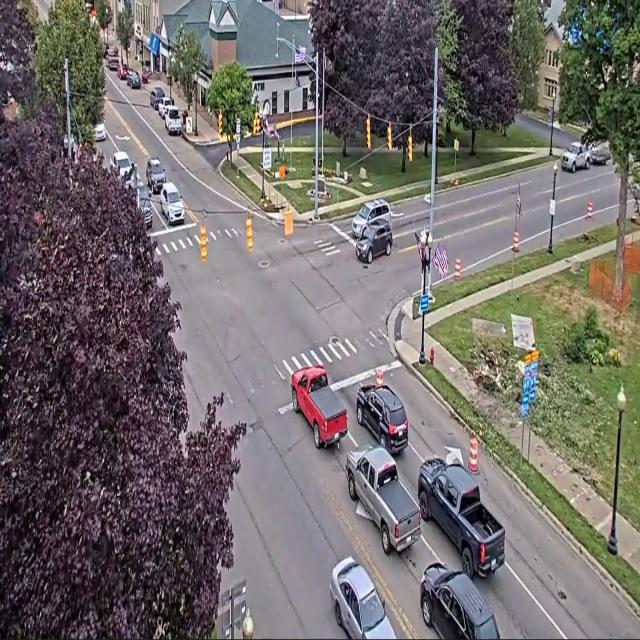car: (420, 563, 499, 639), (330, 558, 395, 639), (356, 384, 408, 454), (356, 219, 392, 263), (352, 200, 390, 238), (161, 183, 185, 224), (561, 143, 590, 172), (146, 158, 166, 193), (138, 183, 152, 228), (110, 152, 131, 177), (165, 106, 182, 135), (589, 142, 610, 165), (126, 164, 143, 189), (149, 86, 165, 111), (158, 96, 173, 119), (127, 71, 141, 88), (94, 123, 106, 141), (107, 56, 119, 71), (118, 64, 128, 79), (141, 68, 150, 83), (103, 42, 109, 59)
traffic signal: (246, 212, 252, 252), (200, 224, 206, 261), (366, 116, 371, 149), (253, 112, 260, 135), (387, 125, 392, 150), (408, 135, 412, 162), (218, 111, 222, 135), (548, 107, 553, 124)
truck: (418, 457, 505, 578), (345, 445, 420, 554), (291, 367, 347, 448)
